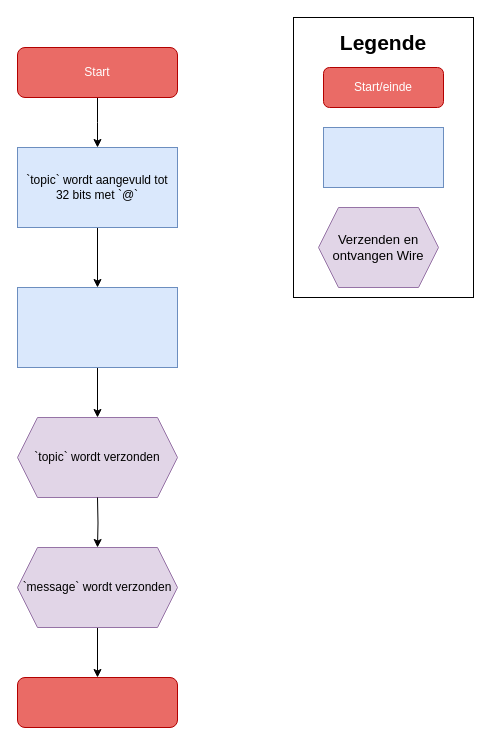
This 491x745 diagram has some shape labels left out. The shapes that lost their labels are listed below. From the top down, each one's centre as x and y in pixels, then its label:
the point at 383,157: Proces
the point at 97,327: `message` wordt aangevuld tot 32 bits met `@`
the point at 97,702: Einde
